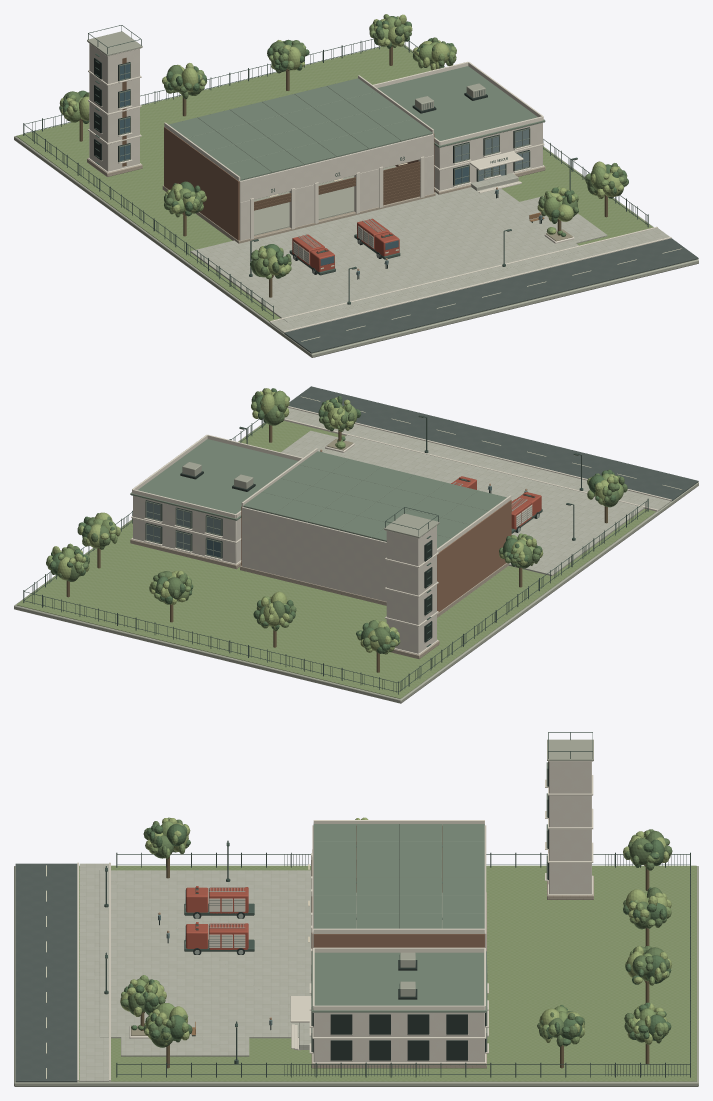
File: fire-station-connected.glb
3 renders of one model, top to bottom at view 1: azimuth 30°, elevation 25°; view 2: azimuth 150°, elevation 25°; view 3: azimuth 270°, elevation 25°, orthographic. The views are drawn at different scales.
Parts seen in each view (by area): view 1: 材质批次_plaza_paving, 材质批次_grass, 材质批次_sage_metal_roof, 材质批次_limestone, 材质批次_asphalt, 材质批次_warm_cream_trim, 材质批次_poi_service_concrete, 材质批次_street_metal, 材质批次_poi_brick_red, 材质批次_leaf_2, 材质批次_leaf_0, 材质批次_leaf_1 (+10 smaller); view 2: 材质批次_grass, 材质批次_sage_metal_roof, 材质批次_limestone, 材质批次_plaza_paving, 材质批次_asphalt, 材质批次_warm_cream_trim, 材质批次_poi_service_concrete, 材质批次_street_metal, 材质批次_poi_brick_red, 材质批次_leaf_2, 材质批次_leaf_1, 材质批次_leaf_0 (+7 smaller); view 3: 材质批次_grass, 材质批次_plaza_paving, 材质批次_sage_metal_roof, 材质批次_asphalt, 材质批次_limestone, 材质批次_warm_cream_trim, 材质批次_poi_service_concrete, 材质批次_street_metal, 材质批次_recess_shadow, 材质批次_leaf_1, 材质批次_leaf_3, 材质批次_leaf_2 (+6 smaller).
Part boxes in pixels (bbox=[...]): 材质批次_plaza_paving: bbox=[190, 173, 669, 332]; 材质批次_grass: bbox=[16, 45, 691, 352]; 材质批次_sage_metal_roof: bbox=[168, 66, 545, 180]; 材质批次_limestone: bbox=[89, 43, 574, 243]; 材质批次_asphalt: bbox=[284, 238, 698, 353]; 材质批次_warm_cream_trim: bbox=[88, 42, 671, 332]; 材质批次_poi_service_concrete: bbox=[14, 31, 698, 357]; 材质批次_street_metal: bbox=[23, 25, 648, 318]; 材质批次_poi_brick_red: bbox=[164, 127, 434, 240]; 材质批次_leaf_2: bbox=[59, 14, 623, 275]; 材质批次_leaf_0: bbox=[60, 14, 627, 279]; 材质批次_leaf_1: bbox=[60, 24, 628, 277]; 材质批次_grass: bbox=[16, 421, 655, 698]; 材质批次_sage_metal_roof: bbox=[130, 439, 506, 548]; 材质批次_limestone: bbox=[133, 443, 436, 653]; 材质批次_plaza_paving: bbox=[281, 407, 670, 575]; 材质批次_asphalt: bbox=[289, 386, 698, 501]; 材质批次_warm_cream_trim: bbox=[131, 406, 671, 654]; 材质批次_poi_service_concrete: bbox=[14, 423, 698, 703]; 材质批次_street_metal: bbox=[23, 415, 648, 694]; 材质批次_poi_brick_red: bbox=[241, 500, 511, 611]; 材质批次_leaf_2: bbox=[52, 388, 618, 652]; 材质批次_leaf_1: bbox=[46, 388, 627, 652]; 材质批次_leaf_0: bbox=[46, 390, 623, 654]; 材质批次_grass: bbox=[79, 865, 696, 1081]; 材质批次_plaza_paving: bbox=[79, 863, 311, 1081]; 材质批次_sage_metal_roof: bbox=[311, 824, 486, 1012]; 材质批次_asphalt: bbox=[15, 863, 77, 1082]; 材质批次_limestone: bbox=[129, 761, 591, 1062]; 材质批次_warm_cream_trim: bbox=[77, 761, 593, 1081]; 材质批次_poi_service_concrete: bbox=[14, 739, 698, 1086]; 材质批次_street_metal: bbox=[104, 732, 690, 1077]; 材质批次_recess_shadow: bbox=[159, 761, 548, 1060]; 材质批次_leaf_1: bbox=[120, 819, 672, 1047]; 材质批次_leaf_3: bbox=[124, 824, 671, 1045]; 材质批次_leaf_2: bbox=[120, 817, 671, 1045].
Size of the model in its own units: 60 by 19.84 by 80.
Materials: 30 (5 with a texture image).
